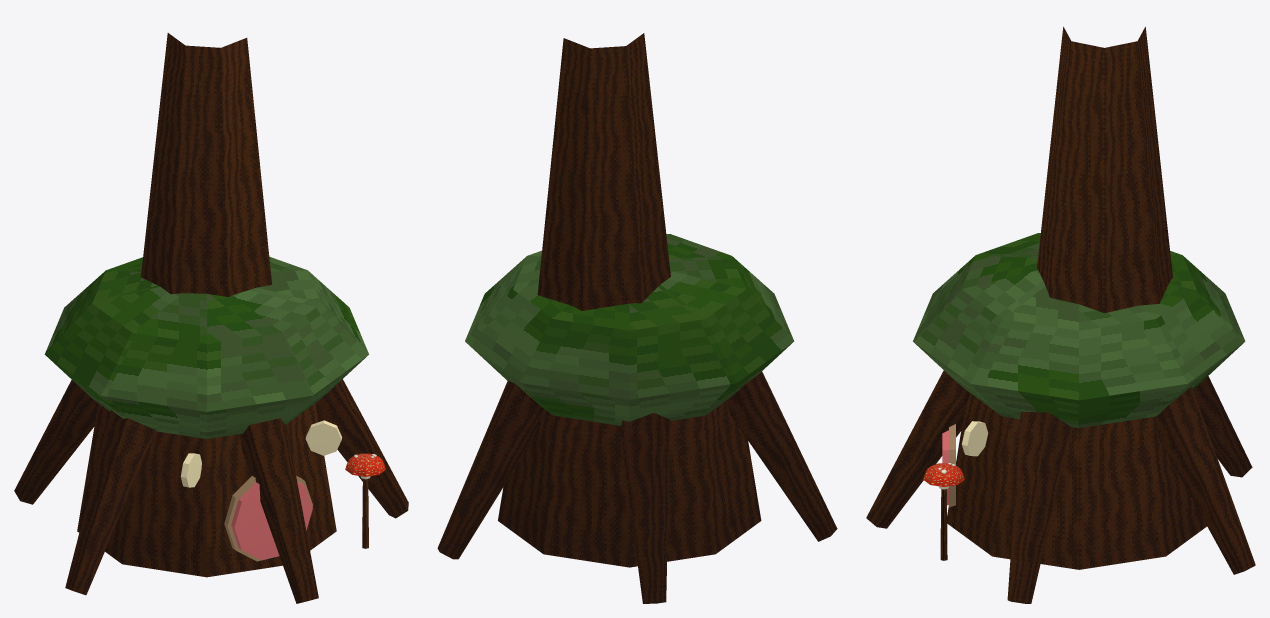
The model's file is root_house.glb.
3 renders of one model, left to right at view 1: azimuth 30°, elevation 25°; view 2: azimuth 150°, elevation 25°; view 3: azimuth 270°, elevation 25°, orthographic. The views are drawn at different scales.
Parts seen in each view (by area): view 1: root_house; view 2: root_house; view 3: root_house.
Part boxes in pixels (box(x1,y1,x2,y2)): root_house: box(14, 33, 408, 603); root_house: box(437, 33, 837, 603); root_house: box(866, 26, 1255, 603).
Size of the model in its own units: 4.81 by 6.57 by 4.62.
7 materials, 6 textured.
